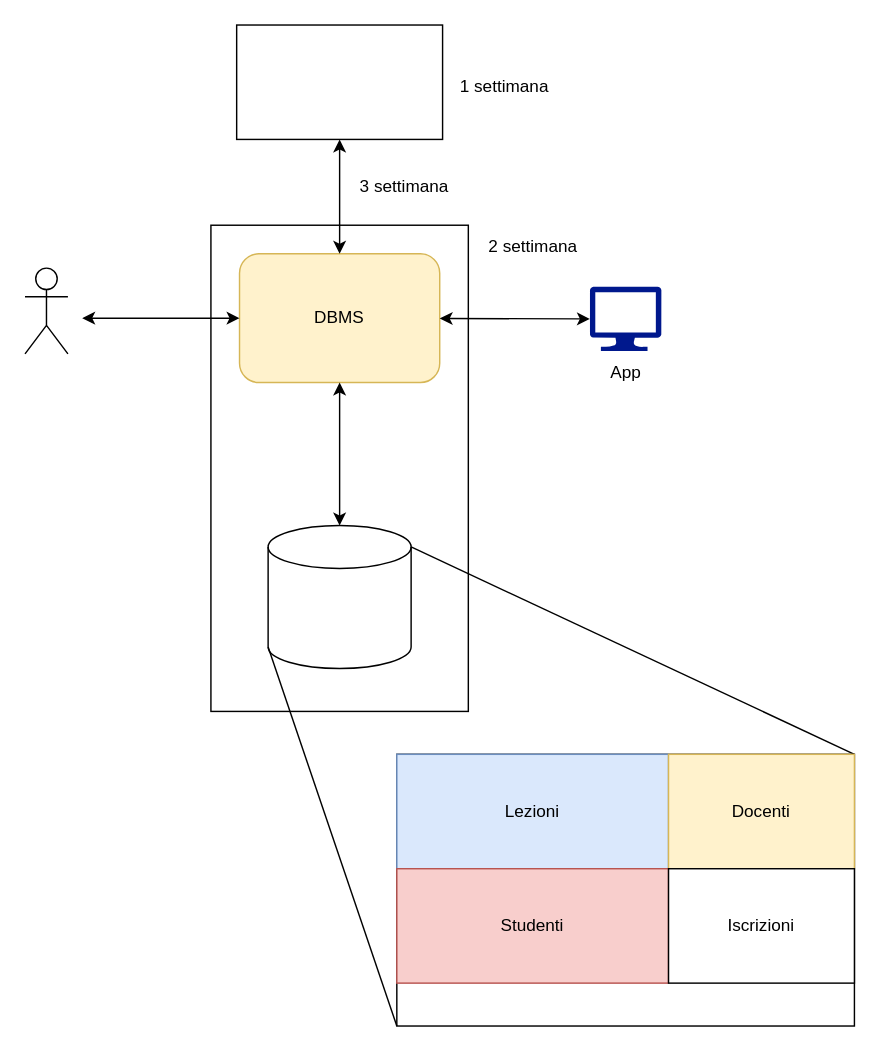
This 881x1062 diagram has some shape labels left out. Here are the shapes that lost their labels. From the top down, the box of each, then its label:
(235, 24, 443, 139): Business logic
(24, 267, 68, 354): Actor
(267, 524, 411, 669): Data Base File
